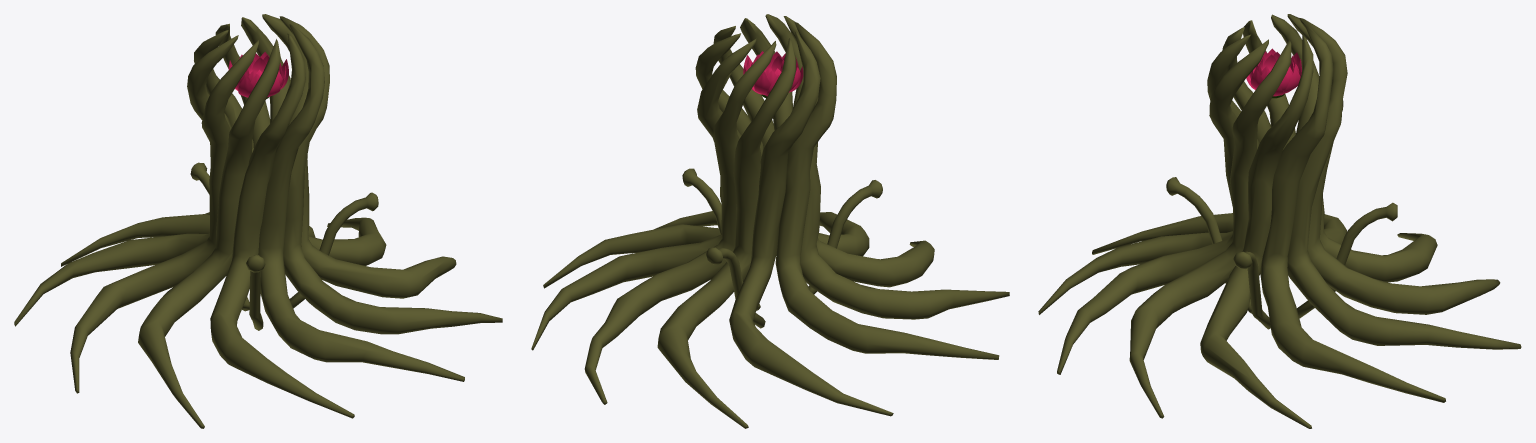
File: PlantPinoState01.gltf
3 renders of one model, left to right at view 1: azimuth 30°, elevation 25°; view 2: azimuth 150°, elevation 25°; view 3: azimuth 270°, elevation 25°, orthographic.
Parts seen in each view (by area): view 1: Pino2, Stem, Flower.001; view 2: Pino2, Stem, Flower.001; view 3: Pino2, Stem, Flower.001.
Part boxes in pixels (x1=…): Pino2: x1=14, y1=14, x2=502, y2=428; Stem: x1=190, y1=162, x2=378, y2=330; Flower.001: x1=228, y1=52, x2=288, y2=97; Pino2: x1=531, y1=14, x2=1009, y2=428; Stem: x1=682, y1=168, x2=882, y2=328; Flower.001: x1=743, y1=51, x2=803, y2=96; Pino2: x1=1038, y1=14, x2=1521, y2=428; Stem: x1=1166, y1=177, x2=1397, y2=329; Flower.001: x1=1246, y1=48, x2=1301, y2=96.
Size of the model in its own units: 2.13 by 1.47 by 2.13.
